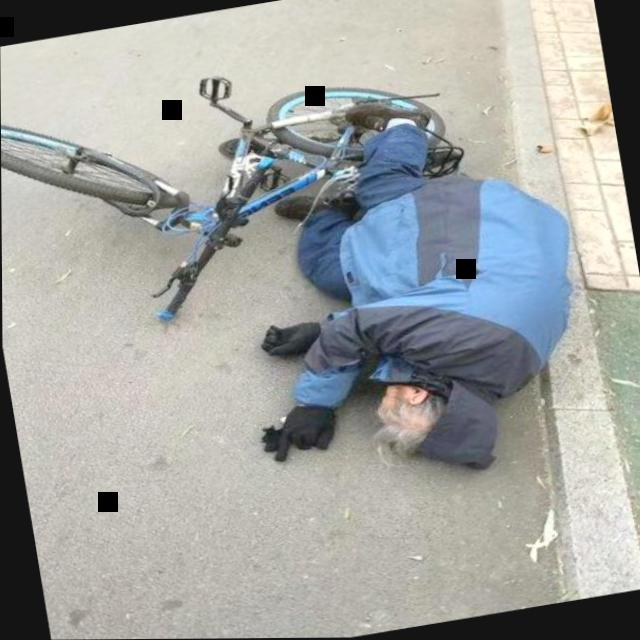Fall-Detected: (209, 39, 623, 521)
